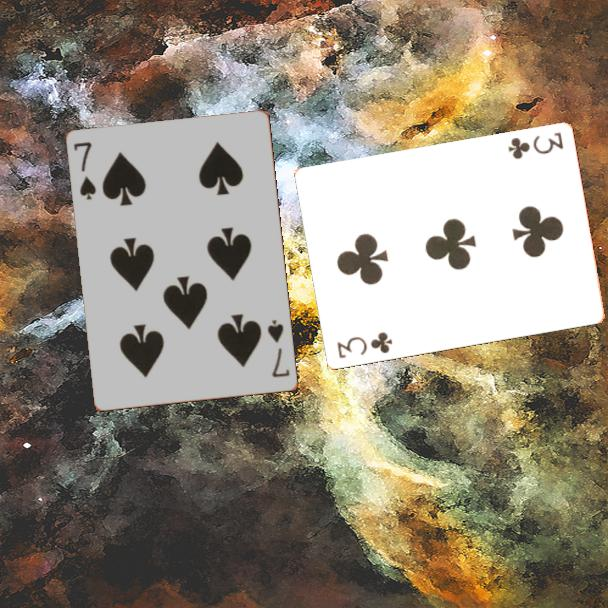c03: (333, 328, 395, 362), (504, 129, 566, 162)
s07: (264, 317, 293, 381), (70, 139, 99, 203)
